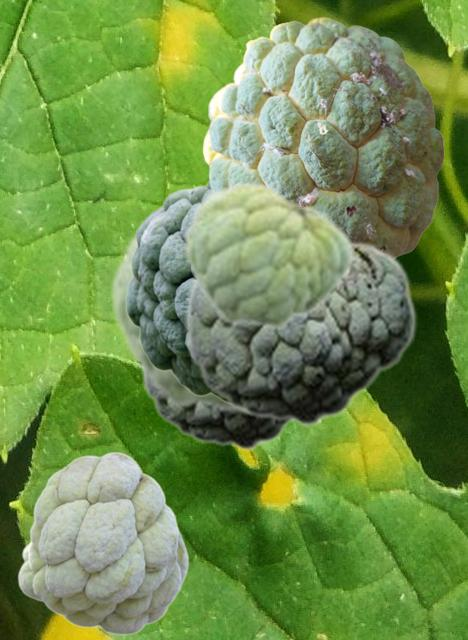atis: (202, 17, 443, 257), (184, 236, 416, 426), (17, 451, 188, 634), (108, 210, 246, 416), (182, 179, 353, 330), (125, 181, 227, 405), (140, 371, 295, 450)
